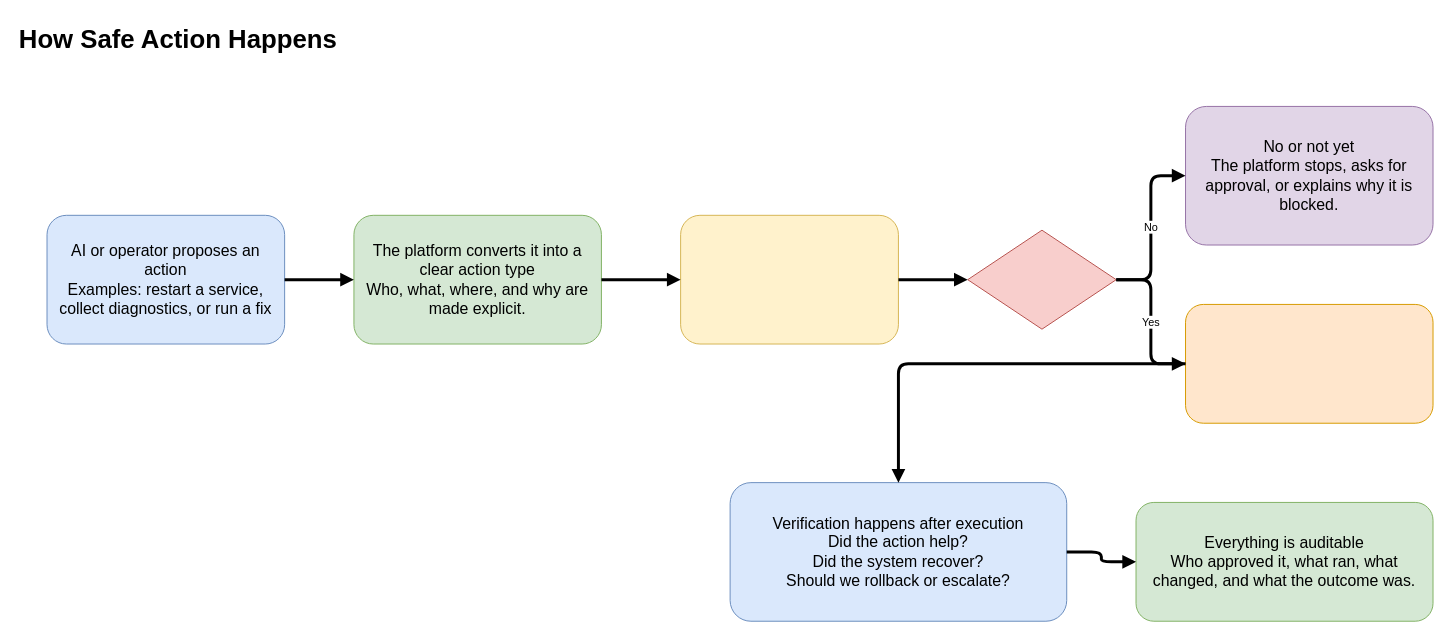
Some shapes in this 1450 by 639 pixel diagram are drawn without their labels. The centre of each missing label's shape, as x and y in pixels:
"Does it pass safety?" goes at point (1041, 279).
"Safety policy checks it Allowed? Blocked? Needs approval?" goes at point (789, 279).
"Yes The platform executes carefully and records the action." goes at point (1309, 363).
